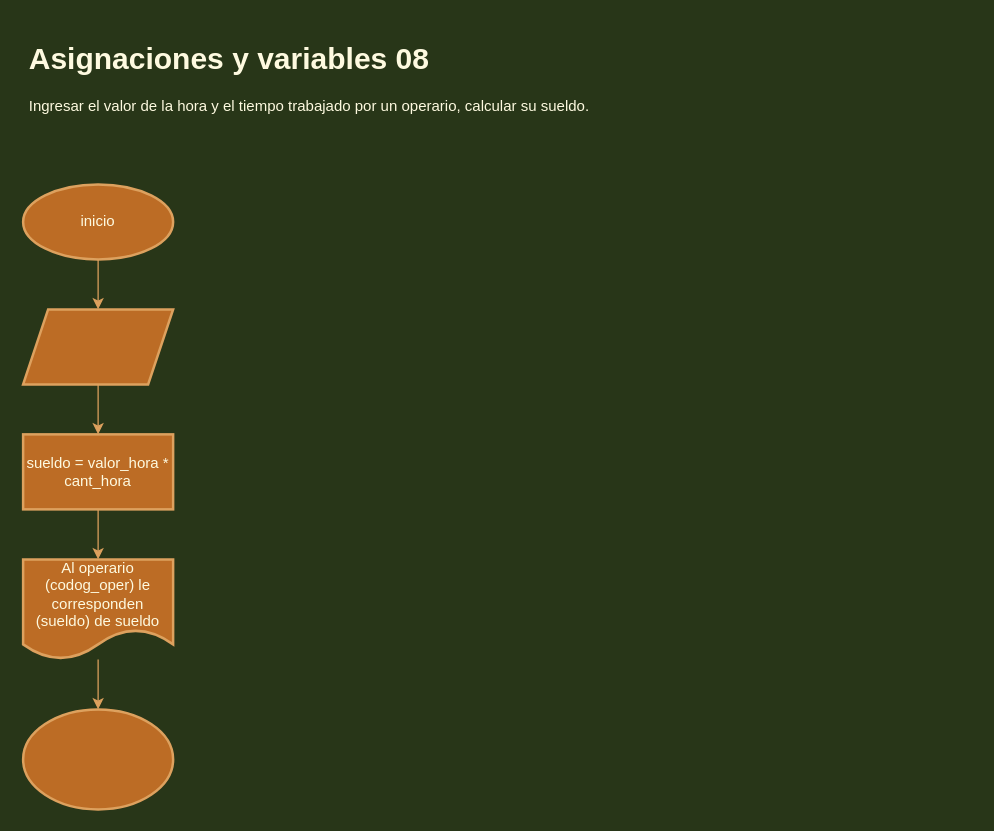
Image size: 994x831. Some labels were removed from this diagram. The centre of each missing label's shape, as x and y in pixels:
"codigo_oper valor_hora cant_hora" goes at pixel 97 346.
"fin" goes at pixel 97 759.
